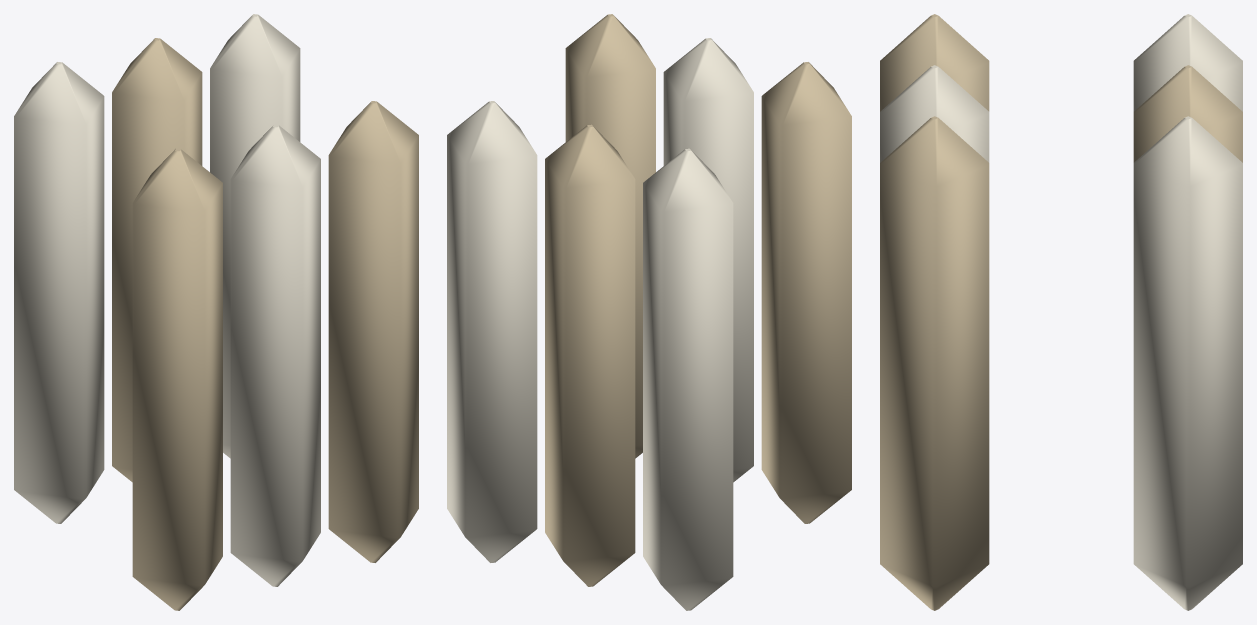
File: t200_scrubber.obj
3 renders of one model, left to right at view 1: azimuth 30°, elevation 25°; view 2: azimuth 150°, elevation 25°; view 3: azimuth 270°, elevation 25°, orthographic. The views are drawn at different scales.
Visible parts, largest first — view 1: t200_scrubber; view 2: t200_scrubber; view 3: t200_scrubber.
Part boxes in pixels (<box>): t200_scrubber: <box>14,14,418,610</box>; t200_scrubber: <box>447,14,851,610</box>; t200_scrubber: <box>880,14,1242,610</box>.
Size of the model in its own units: 1.8 by 2.78 by 1.86.
